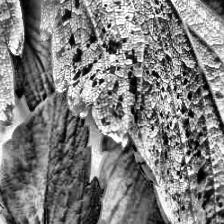Angular Leafspot: (33, 0, 224, 224)
